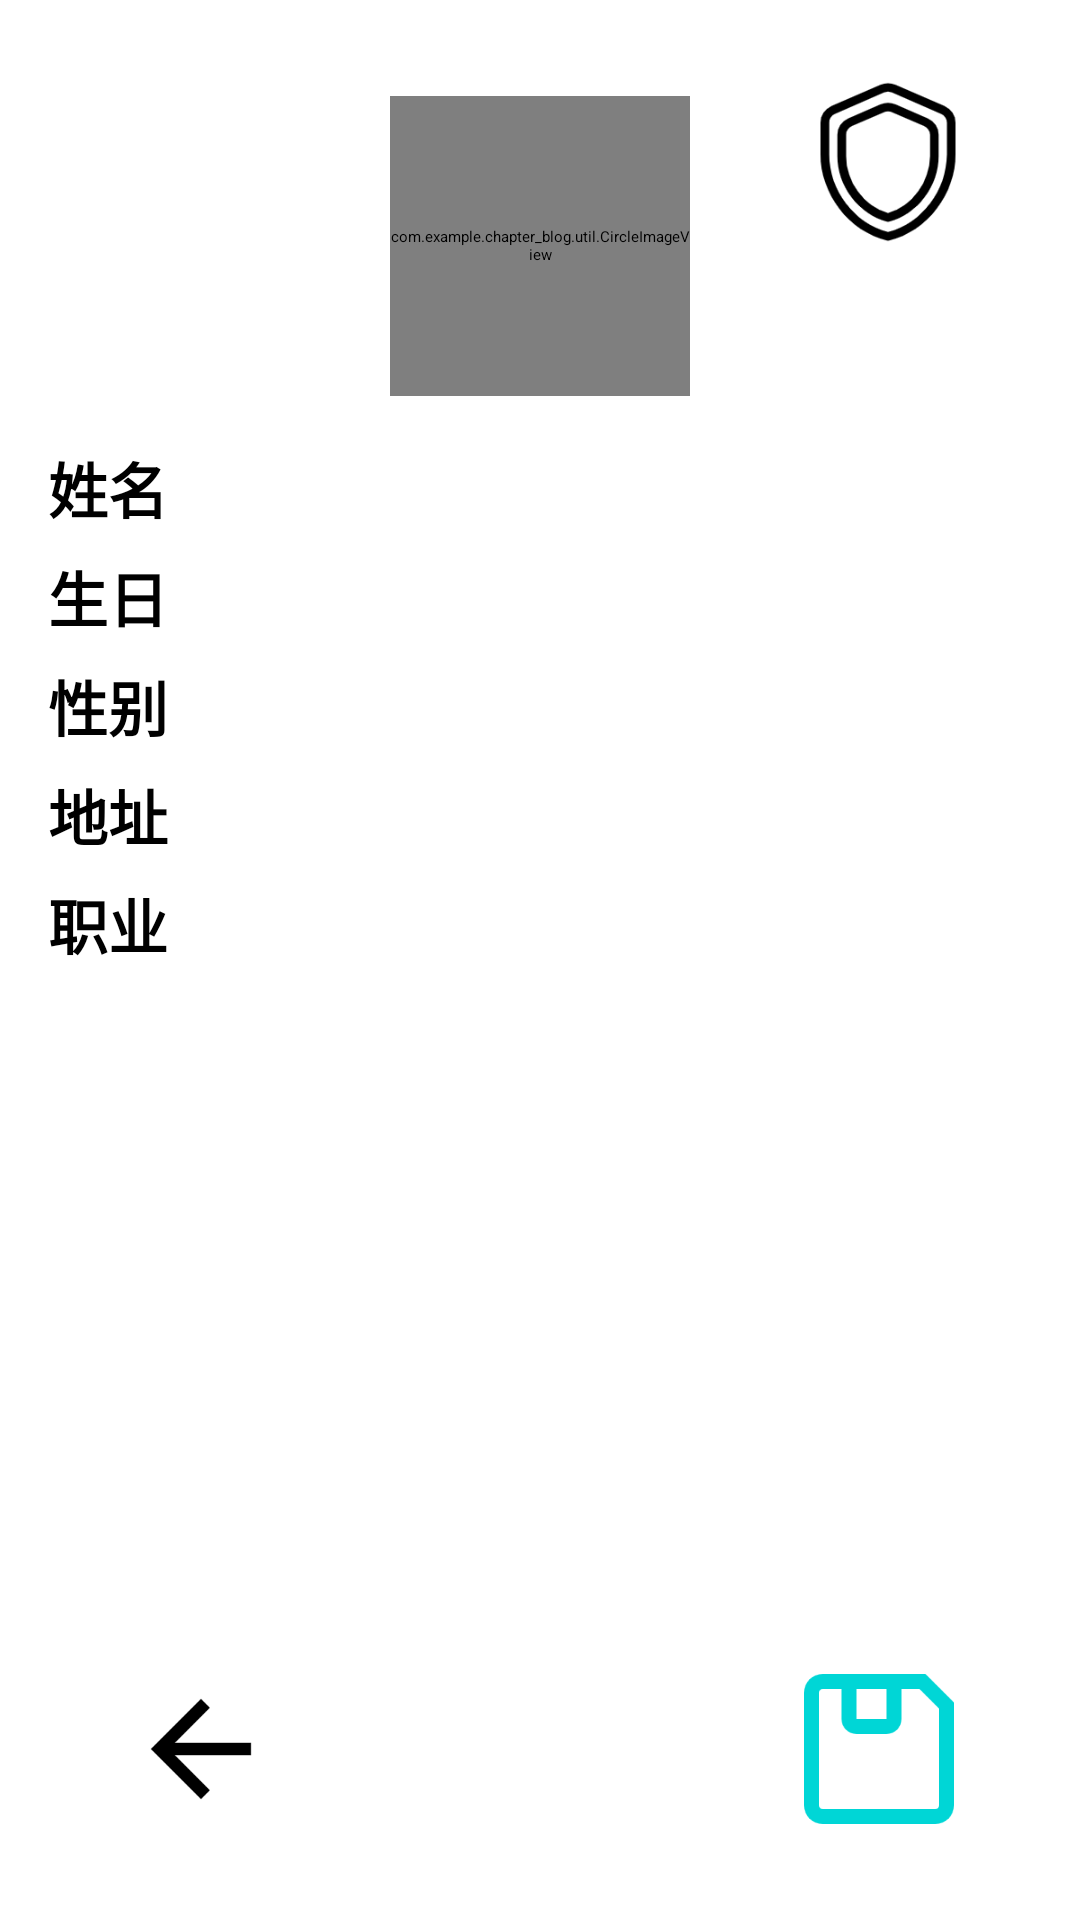

Icons on this 1080w x 1920h Android screen, each with its box as box=[x1, y1, x2, y2]:
Back: box=[151, 1699, 252, 1799]
safe: box=[820, 83, 956, 241]
Save: box=[804, 1674, 954, 1824]
